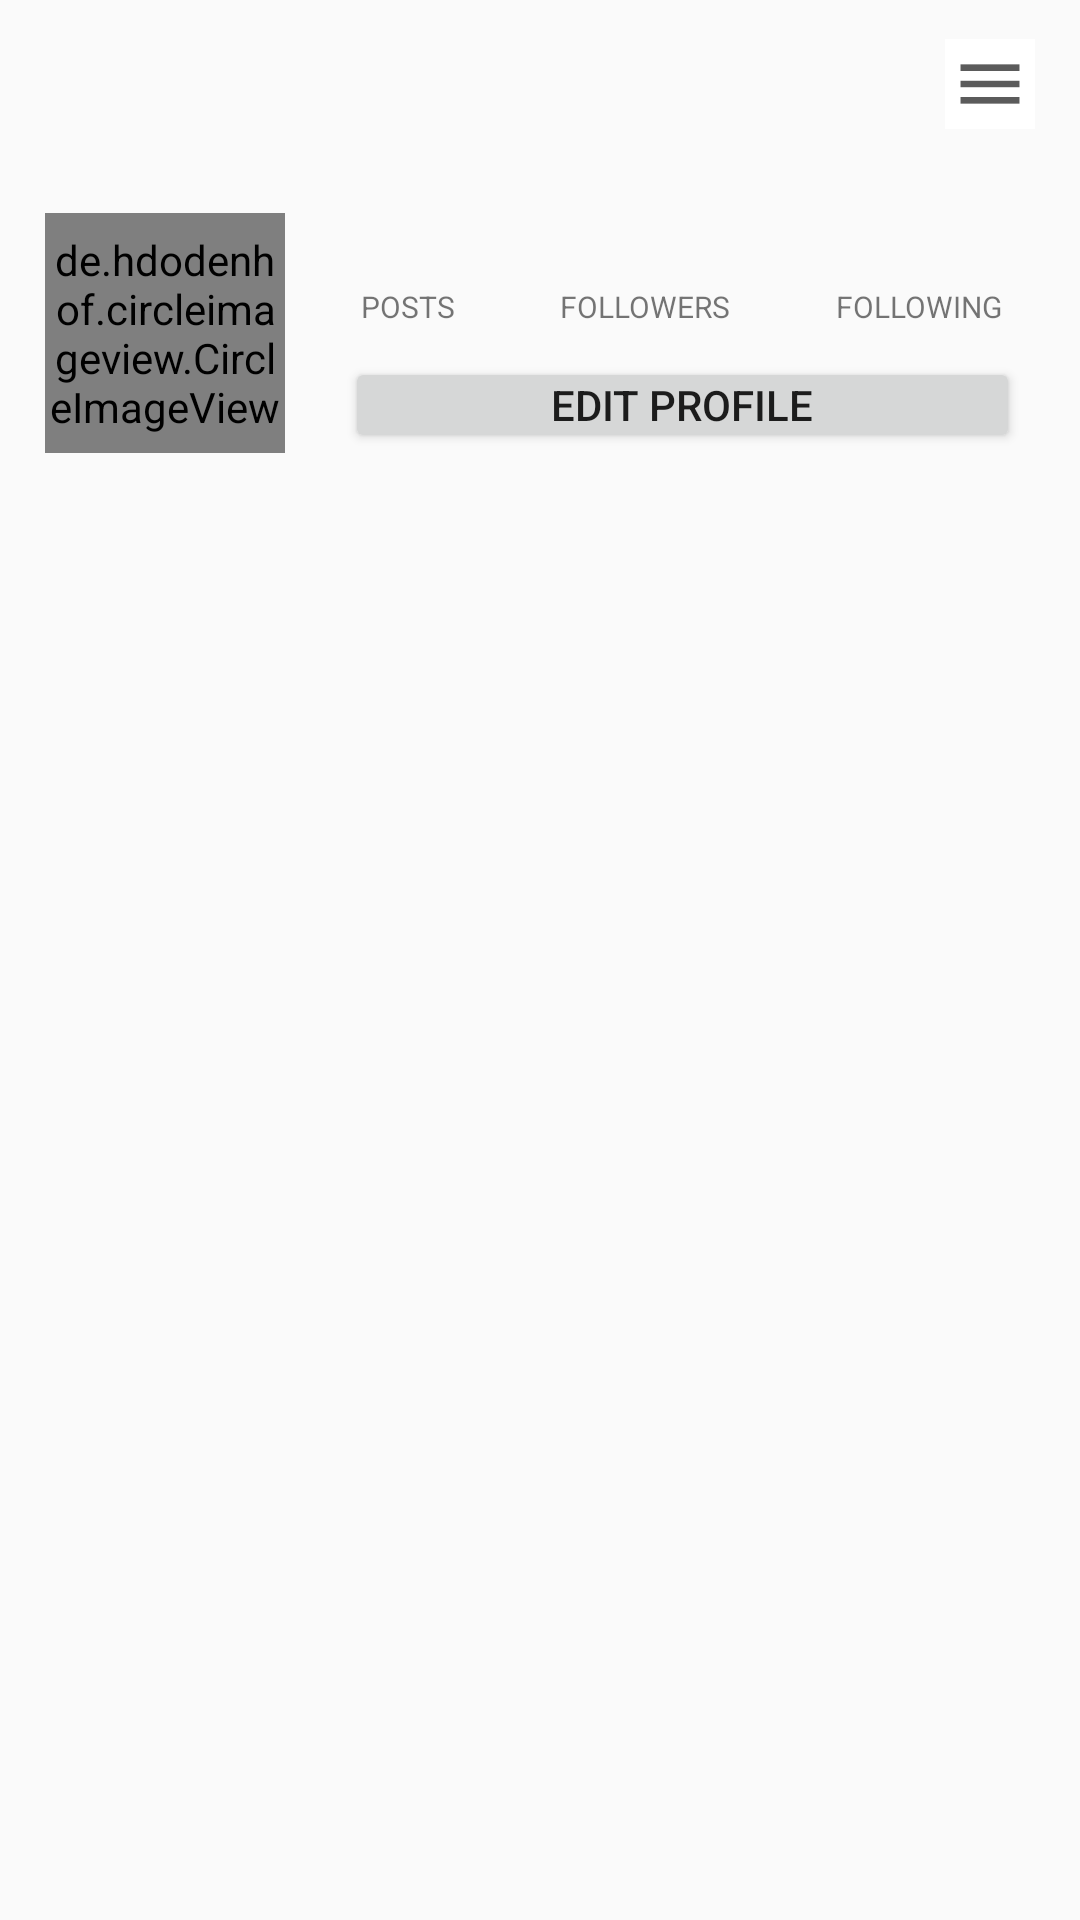

Named icons in this screenshot (1080 × 1920) and their bounding boxes, (x1, y1, x2, y2):
options: (960, 64, 1020, 104)
